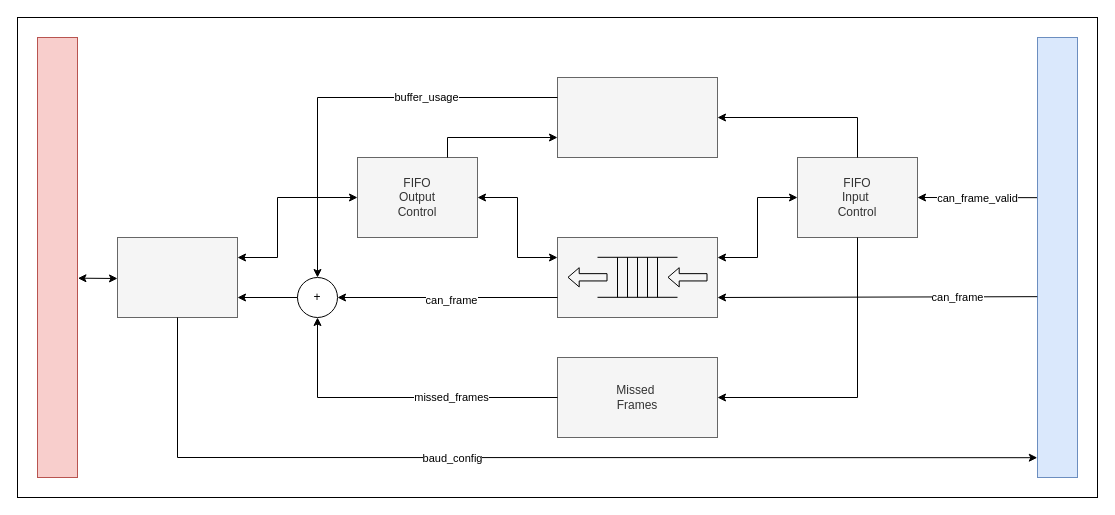
Image size: 1115x515. Some labels were removed from this diagram. Each missing label, with the centre of its shape:
Buffer Usage: the point at 637,117
OLO AXI4-Lite Slave: the point at 177,277
